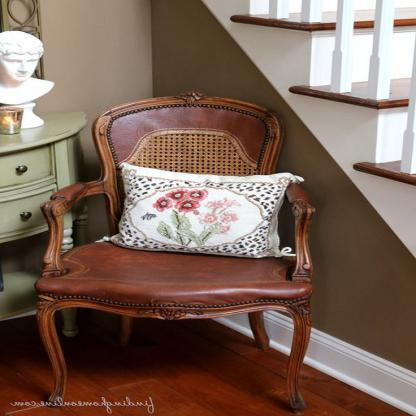chair: (26, 85, 317, 416)
table: (0, 101, 93, 339)
